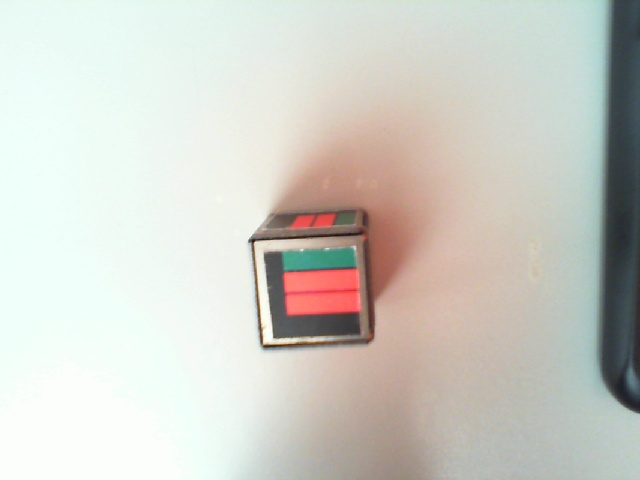square: (266, 248, 359, 337)
